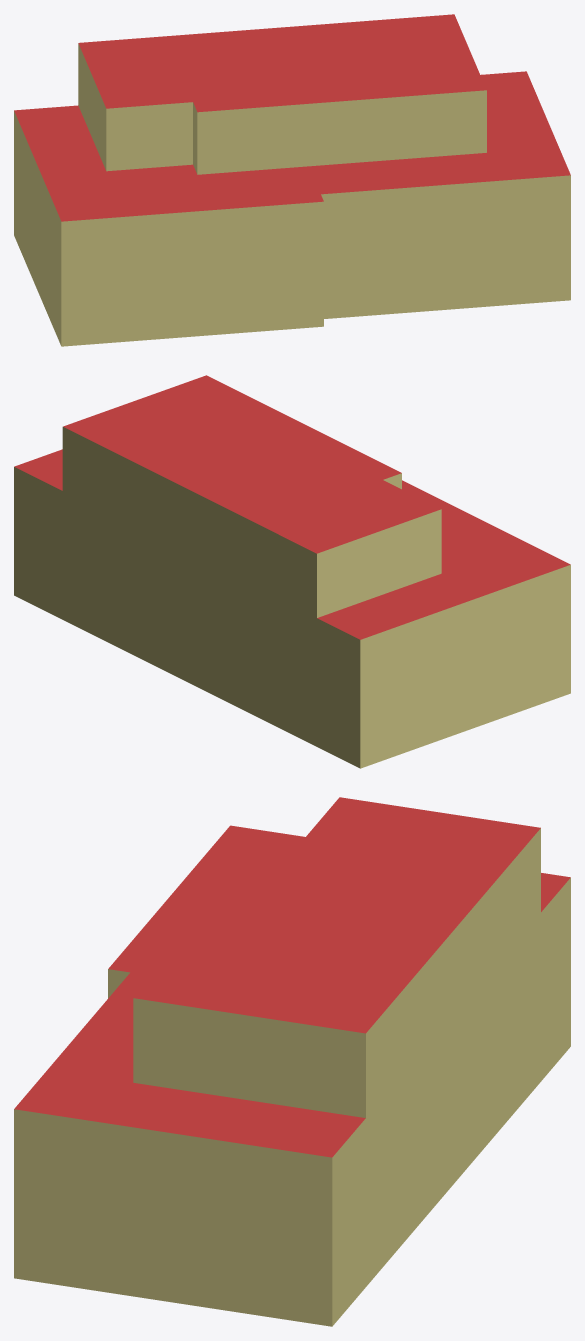
3 views of the same model, one above another, from view 1: azimuth 30°, elevation 25°; view 2: azimuth 150°, elevation 25°; view 3: azimuth 270°, elevation 25° (orthographic). The views are drawn at different scales.
Bounding box in the file's own units: 25.14 × 17.82 × 8.96.
